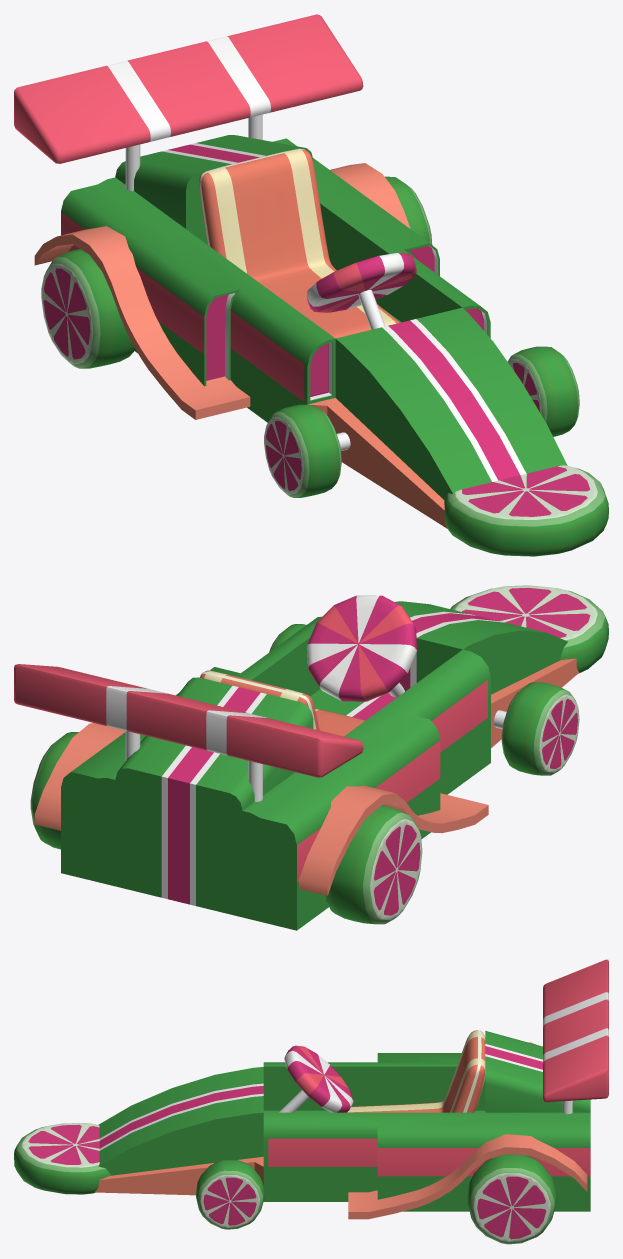
File: cw_car7.fbx
The picture shows the model from 3 angles, top to bottom: view 1: azimuth 30°, elevation 25°; view 2: azimuth 150°, elevation 25°; view 3: azimuth 270°, elevation 25°; orthographic projection. The views are drawn at different scales.
Visible parts, largest first — view 1: cw_car7, w7.002, w7, w7.001, w7.003; view 2: cw_car7, w7.002, w7, w7.003; view 3: cw_car7, w7.003, w7.001.
Boxes of the visible parts, left/top/right/bottom form: cw_car7: left=14, top=14, right=608, bottom=556; w7.002: left=41, top=249, right=135, bottom=368; w7: left=264, top=404, right=341, bottom=497; w7.001: left=507, top=346, right=579, bottom=436; w7.003: left=385, top=176, right=432, bottom=244; cw_car7: left=14, top=585, right=608, bottom=930; w7.002: left=324, top=805, right=422, bottom=924; w7: left=501, top=682, right=579, bottom=775; w7.003: left=30, top=732, right=78, bottom=849; cw_car7: left=14, top=959, right=608, bottom=1219; w7.003: left=467, top=1154, right=556, bottom=1244; w7.001: left=196, top=1159, right=264, bottom=1229.
Bounding box in the file's own units: 115 × 74.26 × 235.
